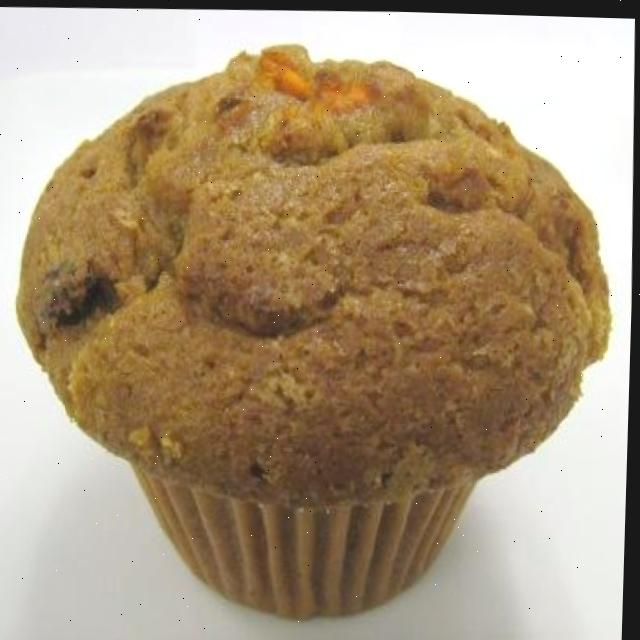炸货点心: (0, 22, 620, 619)
面包点心: (0, 22, 620, 619)
